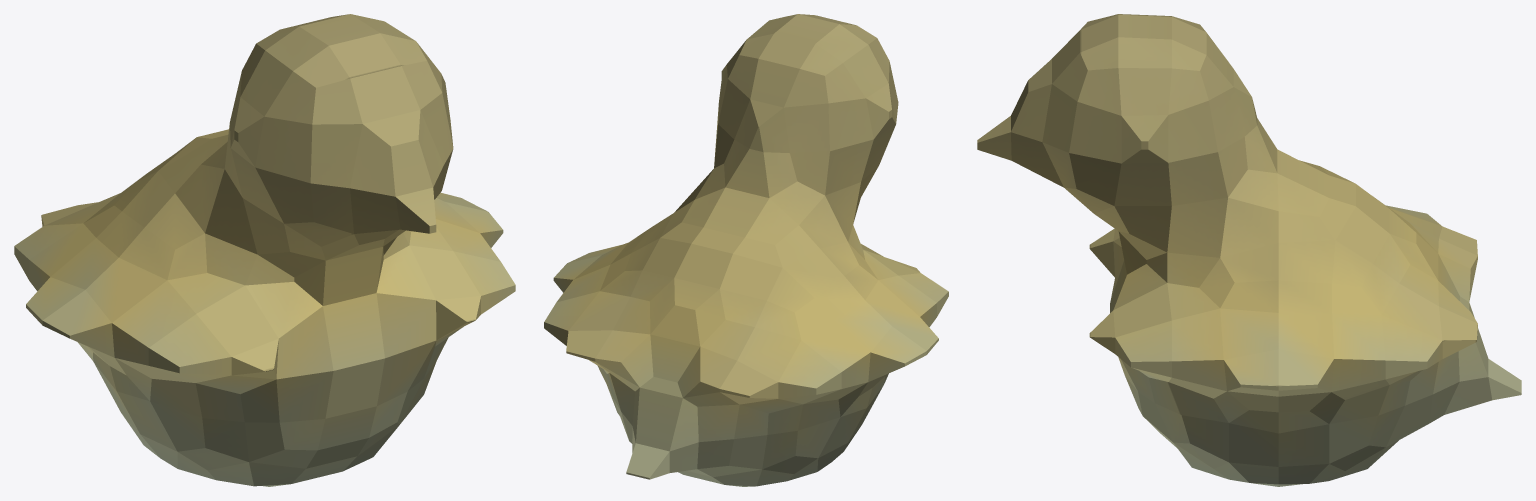
Rendered from phoenix.glb.
The picture shows the model from 3 angles, left to right: view 1: azimuth 30°, elevation 25°; view 2: azimuth 150°, elevation 25°; view 3: azimuth 270°, elevation 25°; orthographic projection. The views are drawn at different scales.
Parts seen in each view (by area): view 1: geometry_0; view 2: geometry_0; view 3: geometry_0.
Boxes of the visible parts, box(x1,y1,x2,y2) form: geometry_0: box(14, 14, 515, 486); geometry_0: box(544, 14, 948, 486); geometry_0: box(977, 14, 1521, 486).
Bounding box in the file's own units: 0.8828 × 0.9358 × 1.04.
1 material, 1 textured.
